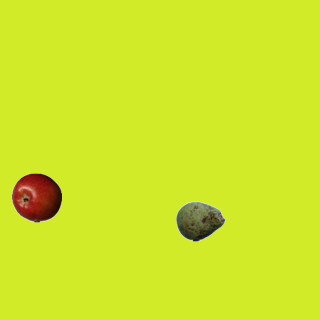Apple Braeburn: (11, 172, 61, 222)
Pear Stone: (175, 196, 225, 246)
